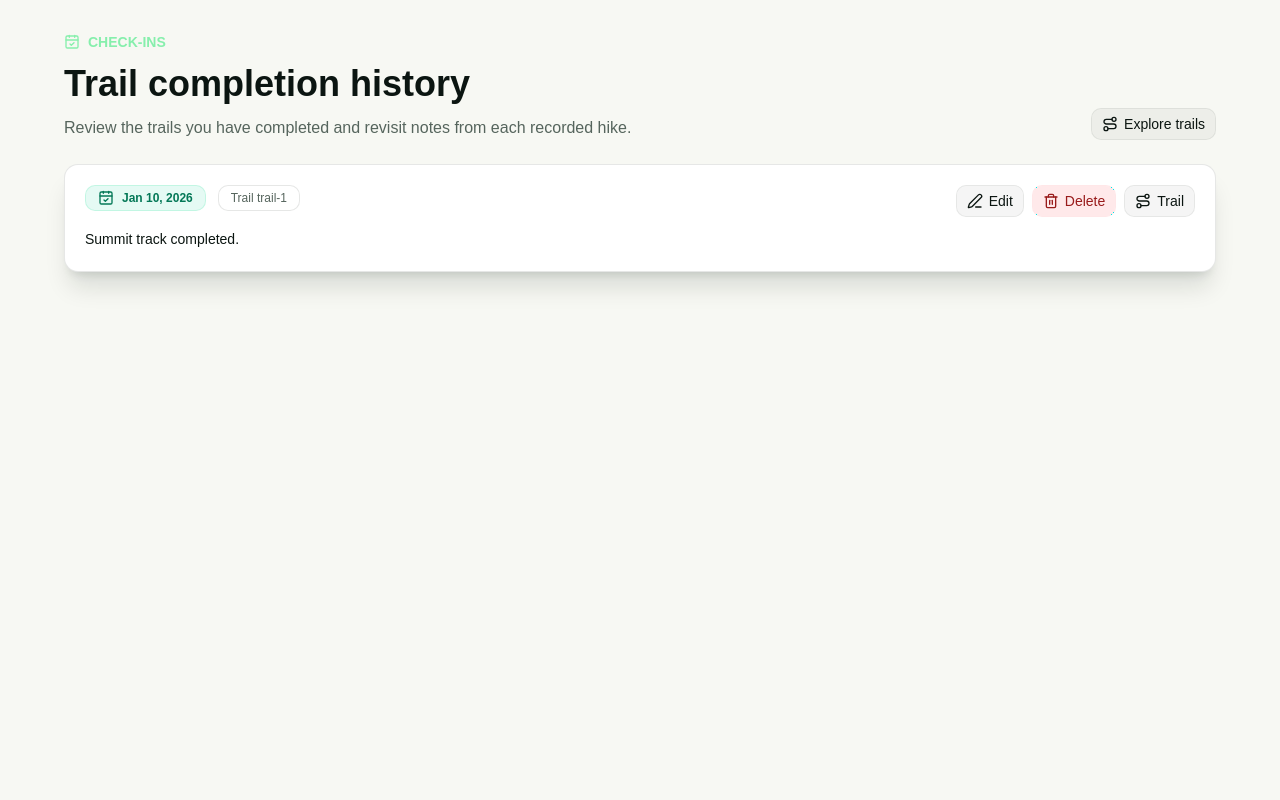
Test case: CheckInHistoryPage › deletes a check-in after confirmation and shows empty state
Expected: the text "Summit track completed." is shown, [85,231,239,247]
Click the button "Delete".
click(1074, 201)  # box [1032,185,1116,217]
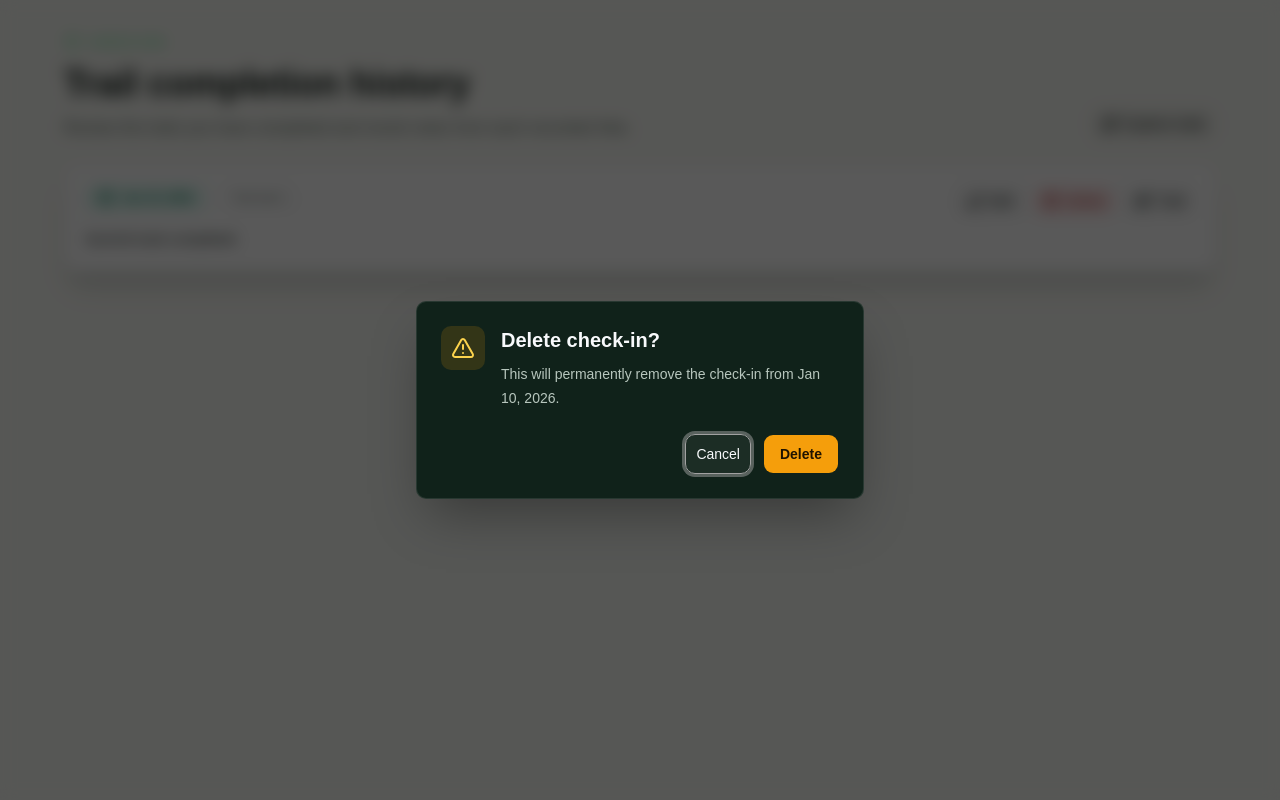
Now the heading "Delete check-in?" is shown, box [501,329,660,351]
Click the button "Delete".
click(801, 454)  # box [763,434,839,474]
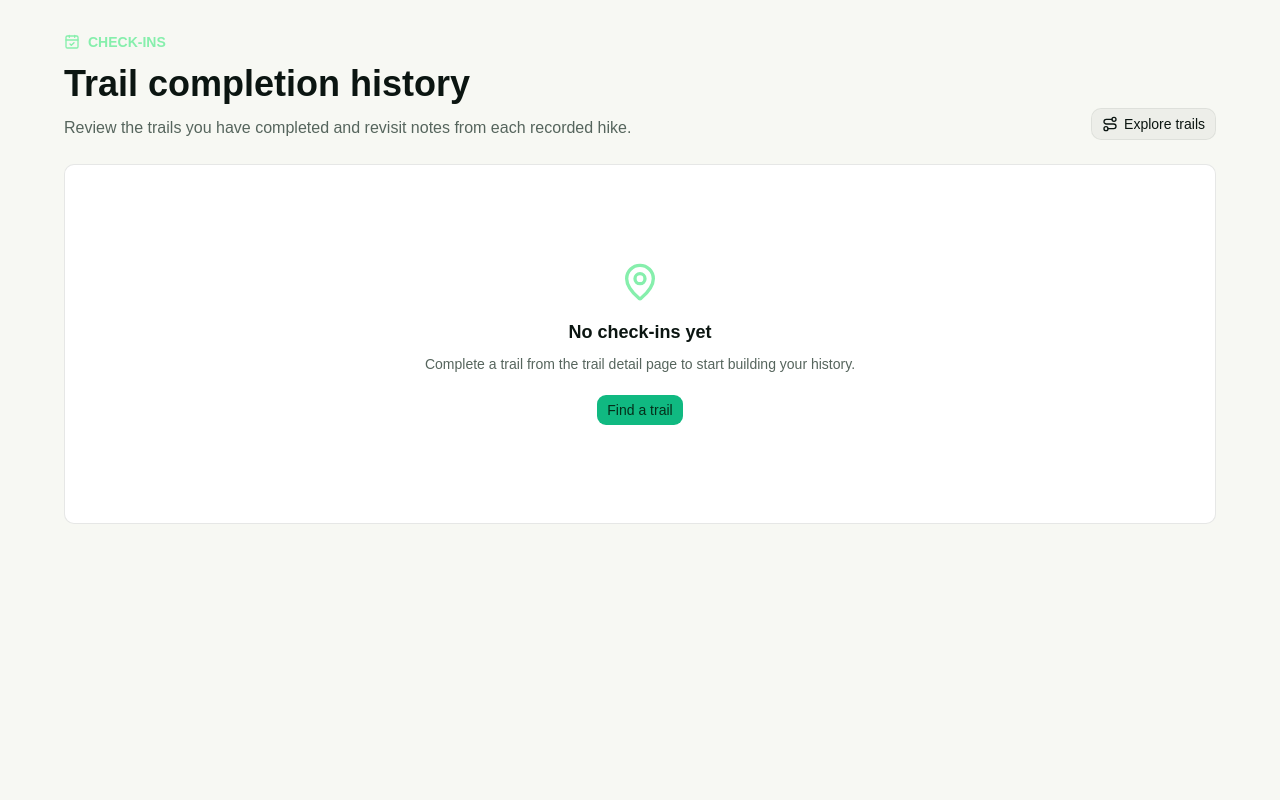
Now the heading "No check-ins yet" is shown, box [568,318,712,346]
